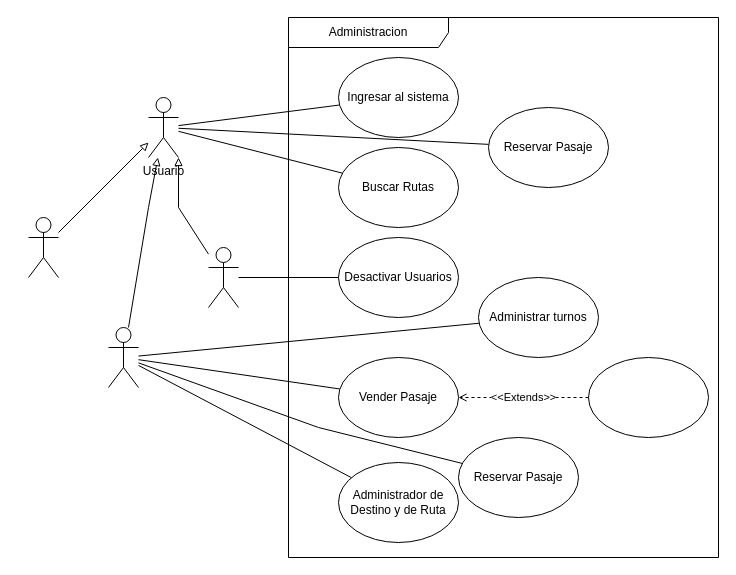
Some shapes in this 736 by 575 pixel diagram are drawn without their labels. Each missing label, with the box of its shape:
Administrador: (208, 246, 238, 308)
Canjear Pasajes: (588, 356, 708, 438)
Pasajeros: (28, 216, 58, 278)
Recaudador: (108, 326, 138, 388)
